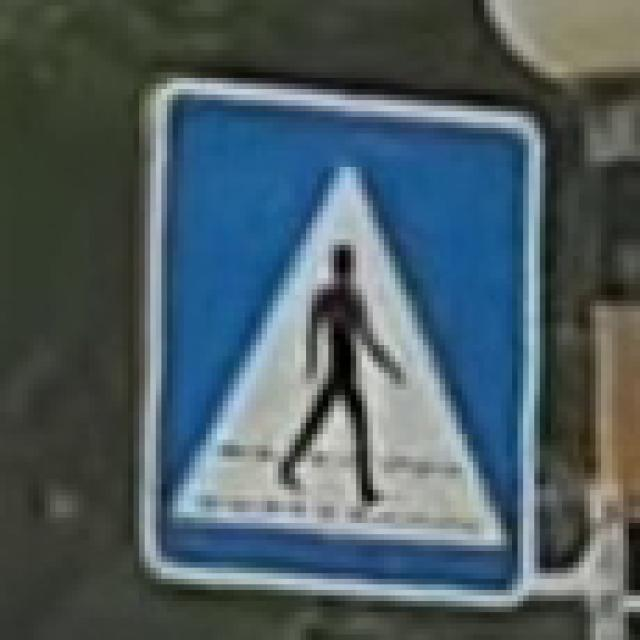zebracrossing_sign: (128, 67, 545, 601)
